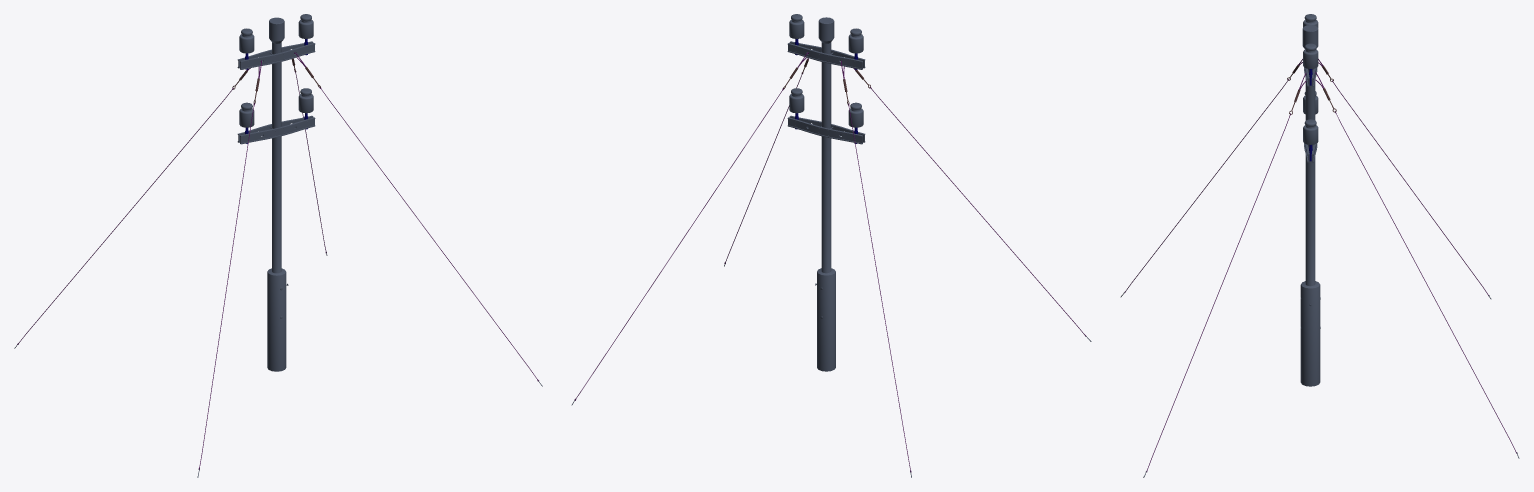
The picture shows the model from 3 angles, left to right: view 1: azimuth 30°, elevation 25°; view 2: azimuth 150°, elevation 25°; view 3: azimuth 270°, elevation 25°; orthographic projection. The views are drawn at different scales.
Visible parts, largest first — view 1: Main, String2, TopBar, BottomBar; view 2: Main, String2, BottomBar, TopBar; view 3: Main, String2, BottomRightPole, TopRightPole.
Part boxes in pixels (x1,y1,x2,y2): Main: (267, 17, 288, 371); String2: (17, 52, 538, 469); TopBar: (237, 41, 315, 69); BottomBar: (237, 115, 315, 144); Main: (815, 17, 835, 371); String2: (574, 52, 1086, 472); BottomBar: (787, 115, 865, 144); TopBar: (787, 41, 865, 69); Main: (1300, 25, 1320, 386); String2: (1124, 59, 1516, 472); BottomRightPole: (1303, 119, 1318, 161); TopRightPole: (1303, 43, 1318, 85).
Bounding box in the file's own units: 1940 × 1815 × 1833.
